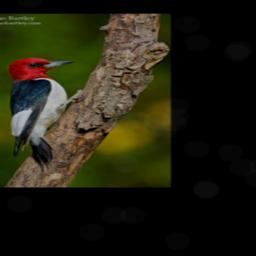Woodpecker: (3, 58, 89, 174)
